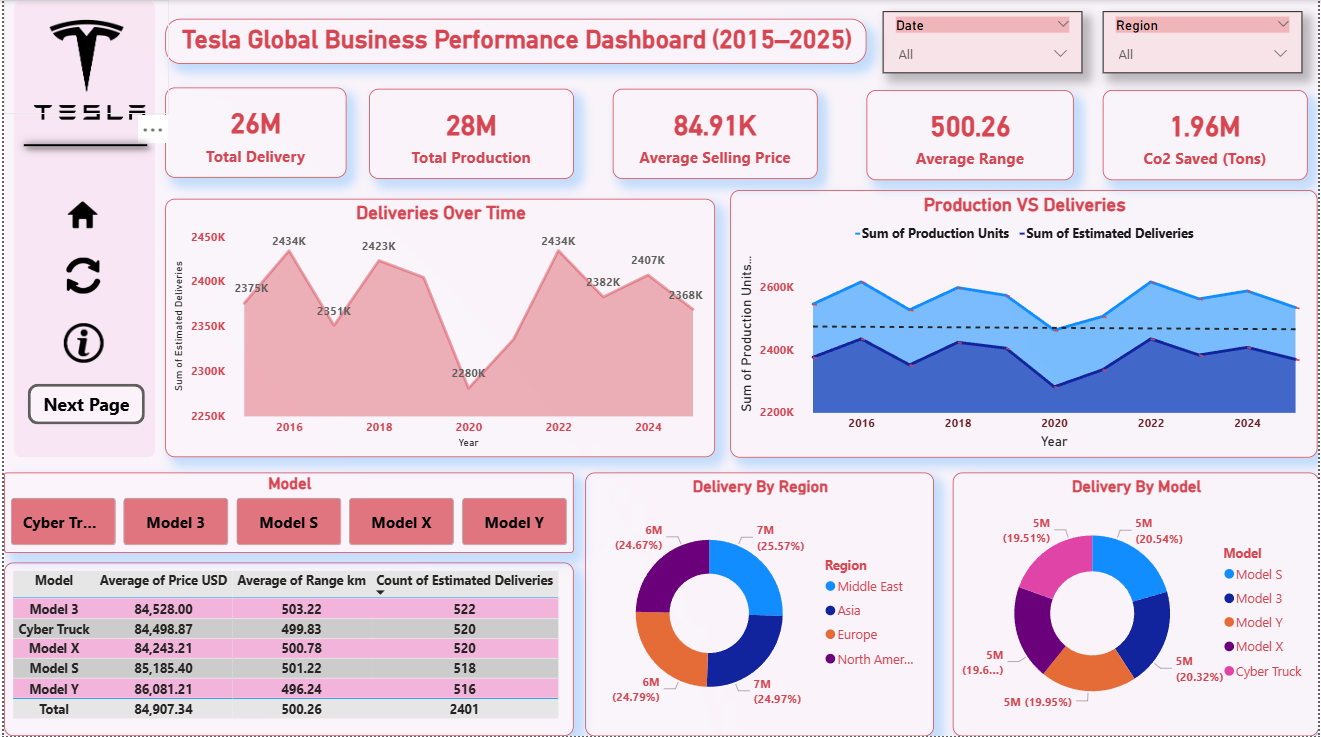

What the dashboard file says about the page in this screenshot:
{"tool":"powerbi","page":{"name":"Overview","canvas":[1375,770],"ordinal":1},"visuals":[{"type":"textbox","title":"Tesla Global Business Performance Dashboard (2015–2025)","box":[168.7,19.6,733.6,47.1],"z":0},{"type":"card","fields":{"Values":["Table.Total Deliveries"]},"box":[168.7,91.5,189.6,94.2],"z":1000},{"type":"card","fields":{"Values":["Table.Total Production"]},"box":[381.9,92.9,214.2,94.2],"z":2000},{"type":"card","fields":{"Values":["Table.Average Selling Price"]},"box":[637.4,92.9,214.2,94.2],"z":3000},{"type":"card","fields":{"Values":["Table.Co2 Saved (Tons)"]},"box":[1149.6,94.2,214.2,94.2],"z":4000},{"type":"card","fields":{"Values":["Table.Average Range"]},"box":[901.9,94.2,216.8,94.2],"z":5000},{"type":"lineChart","title":"Deliveries Over Time","fields":{"Category":["tesla_deliveries_dataset_2015_2025.Date.Variation.Date Hierarchy.Year"],"Y":["Sum(tesla_deliveries_dataset_2015_2025.Estimated_Deliveries)"]},"box":[168.7,207.9,575.4,270.7],"z":6000},{"type":"lineChart","title":"Production VS Deliveries","fields":{"Category":["tesla_deliveries_dataset_2015_2025.Date.Variation.Date Hierarchy.Year"],"Y":["Sum(tesla_deliveries_dataset_2015_2025.Production_Units)","Sum(tesla_deliveries_dataset_2015_2025.Estimated_Deliveries)"]},"box":[759.8,198.8,614.6,279.9],"z":7000},{"type":"pieChart","title":"Delivery By Region","fields":{"Category":["tesla_deliveries_dataset_2015_2025.Region"],"Y":["Sum(tesla_deliveries_dataset_2015_2025.Estimated Deliveries)"]},"box":[608.1,494.3,364.9,275.9],"z":8000},{"type":"donutChart","title":"Delivery By Model","fields":{"Category":["tesla_deliveries_dataset_2015_2025.Model"],"Y":["Sum(tesla_deliveries_dataset_2015_2025.Estimated_Deliveries)"]},"box":[992.6,494.3,383.2,275.9],"z":9000},{"type":"tableEx","title":"Model Performance","fields":{"Values":["tesla_deliveries_dataset_2015_2025.Model","Avg(tesla_deliveries_dataset_2015_2025.Price USD)","Avg(tesla_deliveries_dataset_2015_2025.Range km)","Count(tesla_deliveries_dataset_2015_2025.Estimated Deliveries)"]},"box":[0,588.5,596.3,181.8],"z":10000},{"type":"shape","box":[10.5,0,147.8,478.6],"z":11000},{"type":"image","box":[67.1,198.7,31,51.6],"z":12000},{"type":"image","box":[45.2,334.2,74.8,47.7],"z":13000},{"type":"image","box":[64.5,261.9,37.4,54.2],"z":14000},{"type":"image","box":[0,67.3,179.8,101.5],"z":15000},{"type":"image","box":[0,0,172.4,118.6],"z":16000},{"type":"shape","box":[11.6,117.4,147.1,68.4],"z":17000},{"type":"actionButton","box":[24.5,401.3,122.6,42.6],"z":18000},{"type":"slicer","fields":{"Values":["tesla_deliveries_dataset_2015_2025.Date"]},"box":[919.9,11.6,209,64.5],"z":19000},{"type":"slicer","fields":{"Values":["tesla_deliveries_dataset_2015_2025.Region"]},"box":[1149.6,11.6,209,64.5],"z":20000},{"type":"advancedSlicerVisual","fields":{"Values":["Tesla Car Dataset-(2015-2025).Model"]},"box":[0,494.3,596.3,83.7],"z":20001}]}

Visuals, with their boxes in screenshot pixels (x1, y1, x2, y2), scaled from the page's 1375x770 canvas onto the 1321x737 screenshot:
"Tesla Global Business Performance Dashboard (2015–2025)" textbox: <bbox>162, 19, 867, 64</bbox>
card - Table.Total Deliveries: <bbox>162, 88, 344, 178</bbox>
card - Table.Total Production: <bbox>367, 89, 573, 179</bbox>
card - Table.Average Selling Price: <bbox>612, 89, 818, 179</bbox>
card - Table.Co2 Saved (Tons): <bbox>1104, 90, 1310, 180</bbox>
card - Table.Average Range: <bbox>866, 90, 1075, 180</bbox>
"Deliveries Over Time" lineChart: <bbox>162, 199, 715, 458</bbox>
"Production VS Deliveries" lineChart: <bbox>730, 190, 1320, 458</bbox>
"Delivery By Region" pieChart: <bbox>584, 473, 935, 736</bbox>
"Delivery By Model" donutChart: <bbox>954, 473, 1320, 736</bbox>
"Model Performance" tableEx: <bbox>0, 563, 573, 736</bbox>
shape: <bbox>10, 0, 152, 458</bbox>
image: <bbox>64, 190, 94, 240</bbox>
image: <bbox>43, 320, 115, 366</bbox>
image: <bbox>62, 251, 98, 303</bbox>
image: <bbox>0, 64, 173, 162</bbox>
image: <bbox>0, 0, 166, 114</bbox>
shape: <bbox>11, 112, 152, 178</bbox>
actionButton: <bbox>24, 384, 141, 425</bbox>
slicer - tesla_deliveries_dataset_2015_2025.Date: <bbox>884, 11, 1085, 73</bbox>
slicer - tesla_deliveries_dataset_2015_2025.Region: <bbox>1104, 11, 1305, 73</bbox>
advancedSlicerVisual - Tesla Car Dataset-(2015-2025).Model: <bbox>0, 473, 573, 553</bbox>
